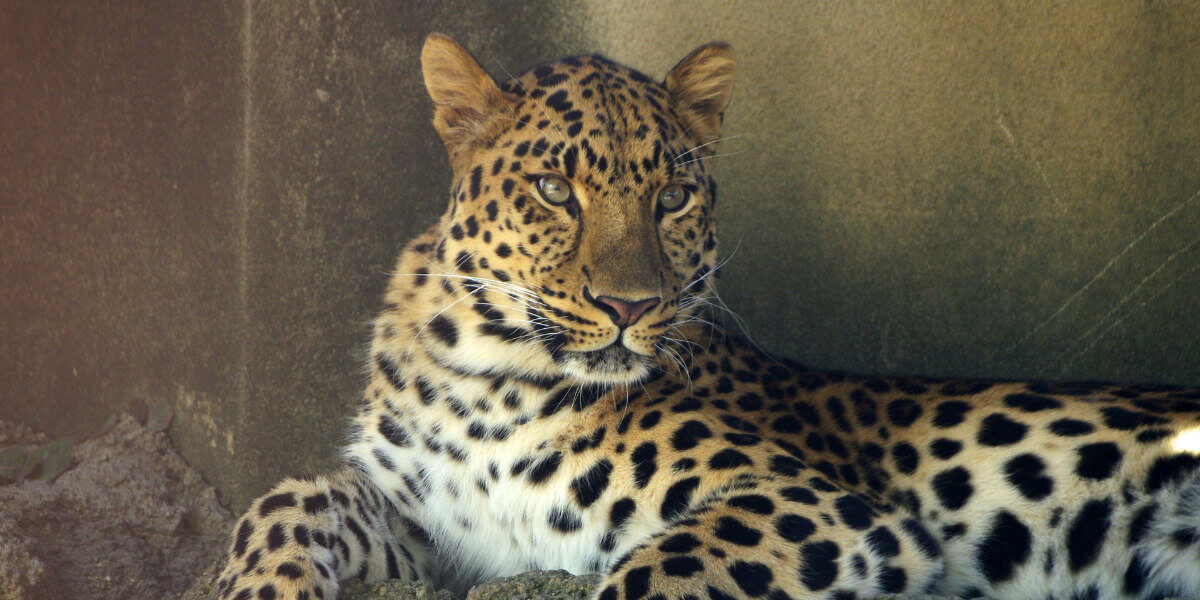amur_leopard: (217, 8, 1051, 598)
